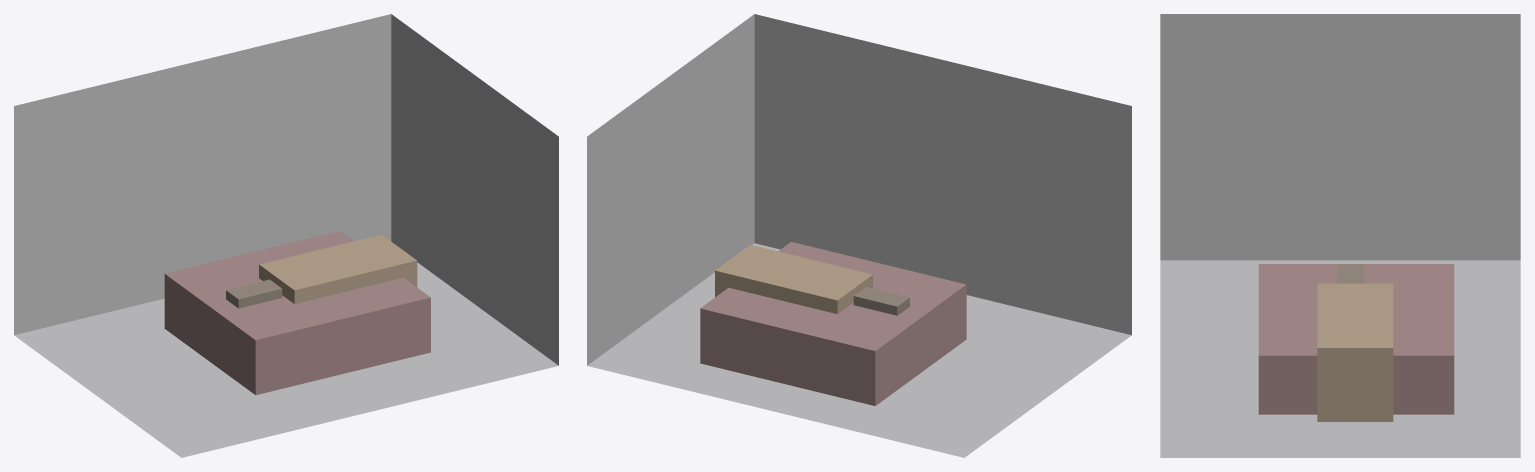
File: optimised_layout.glb
3 renders of one model, left to right at view 1: azimuth 30°, elevation 25°; view 2: azimuth 150°, elevation 25°; view 3: azimuth 270°, elevation 25°, orthographic. The views are drawn at different scales.
Visible parts, largest first — view 1: room, bed, desk, suitcase; view 2: room, bed, desk, suitcase; view 3: room, bed, desk, suitcase.
Boxes of the visible parts, x1,y1,x2,y2 form: room: [14, 14, 558, 457]; bed: [164, 231, 430, 395]; desk: [259, 234, 417, 303]; suitcase: [226, 279, 282, 308]; room: [587, 14, 1131, 457]; bed: [700, 242, 966, 405]; desk: [715, 244, 872, 313]; suitcase: [853, 287, 909, 315]; room: [1160, 14, 1520, 457]; bed: [1258, 264, 1454, 414]; desk: [1317, 283, 1393, 421]; suitcase: [1337, 264, 1364, 283].
Size of the model in its own units: 4.31 by 2.5 by 3.31.
